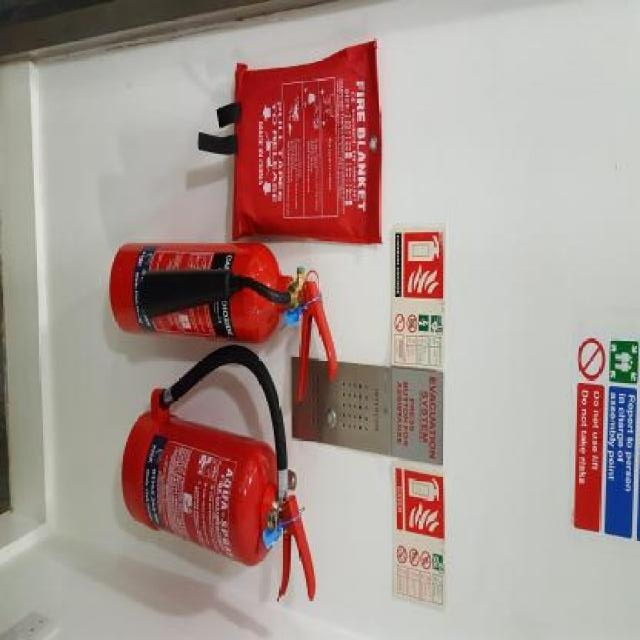fire extinguisher: (121, 345, 316, 603), (107, 234, 338, 403)
